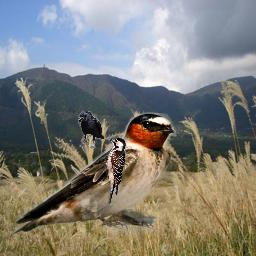Crow: (78, 111, 104, 148)
Swallow: (12, 111, 176, 234)
Woodpecker: (104, 136, 127, 206)
